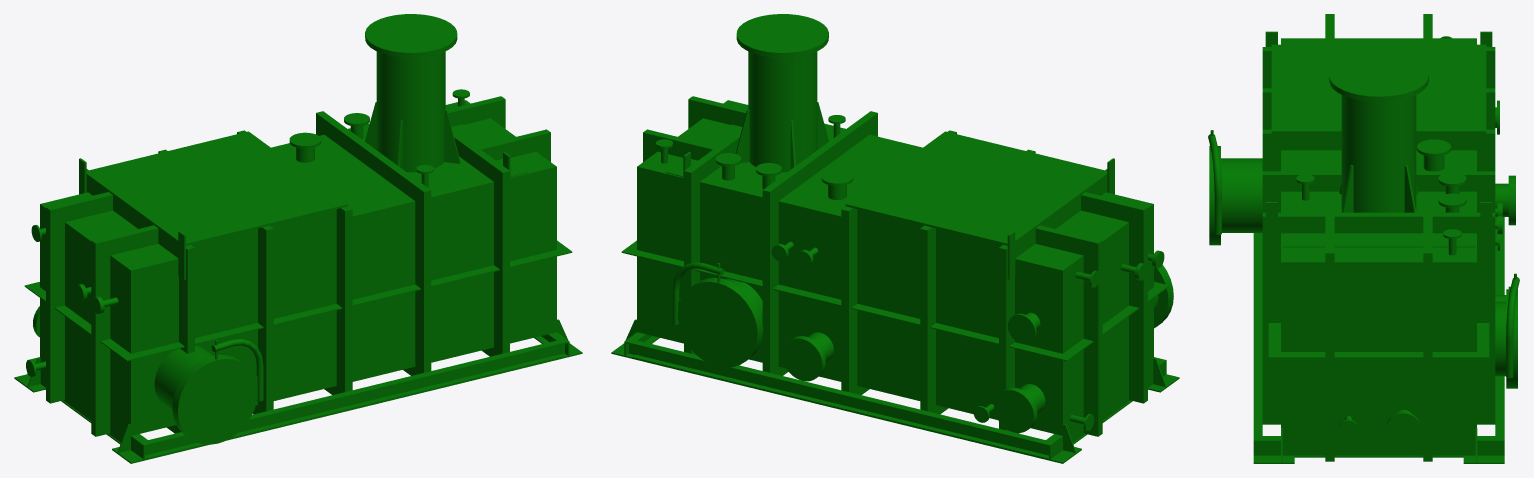
Rendered from Image-1710907700756-2280694947152_56-TB50.fbx.
3 renders of one model, left to right at view 1: azimuth 30°, elevation 25°; view 2: azimuth 150°, elevation 25°; view 3: azimuth 270°, elevation 25°, orthographic. The views are drawn at different scales.
Parts seen in each view (by area): view 1: BOX 1 of SUBEQUIPMENT /56-TB50/PRIM, BOX 6 of SUBEQUIPMENT /56-TB50/PRIM, /56-TB50/N7, CYLINDER 2 of SUBEQUIPMENT /56-TB50/PRIM, BOX 4 of SUBEQUIPMENT /56-TB50/STIFF, BOX 11 of SUBEQUIPMENT /56-TB50/STIFF, BOX 8 of SUBEQUIPMENT /56-TB50/STIFF, BOX 3 of SUBEQUIPMENT /56-TB50/STIFF, BOX 11 of SUBEQUIPMENT /56-TB50/SUPP, BOX 1 of SUBEQUIPMENT /56-TB50/STIFF, BOX 5 of SUBEQUIPMENT /56-TB50/STIFF, BOX 6 of SUBEQUIPMENT /56-TB50/STIFF (+9 smaller); view 2: BOX 1 of SUBEQUIPMENT /56-TB50/PRIM, BOX 6 of SUBEQUIPMENT /56-TB50/PRIM, /56-TB50/N7, CYLINDER 1 of SUBEQUIPMENT /56-TB50/PRIM, BOX 4 of SUBEQUIPMENT /56-TB50/STIFF, BOX 11 of SUBEQUIPMENT /56-TB50/STIFF, BOX 8 of SUBEQUIPMENT /56-TB50/STIFF, BOX 12 of SUBEQUIPMENT /56-TB50/SUPP, BOX 1 of SUBEQUIPMENT /56-TB50/STIFF, BOX 5 of SUBEQUIPMENT /56-TB50/STIFF, BOX 7 of SUBEQUIPMENT /56-TB50/STIFF, BOX 6 of SUBEQUIPMENT /56-TB50/STIFF (+13 smaller); view 3: BOX 1 of SUBEQUIPMENT /56-TB50/PRIM, BOX 6 of SUBEQUIPMENT /56-TB50/PRIM, /56-TB50/N7, BOX 3 of SUBEQUIPMENT /56-TB50/STIFF, BOX 6 of SUBEQUIPMENT /56-TB50/SUPP, BOX 5 of SUBEQUIPMENT /56-TB50/STIFF, BOX 4 of SUBEQUIPMENT /56-TB50/STIFF, /56-TB50/M1, BOX 2 of SUBEQUIPMENT /56-TB50/STIFF, BOX 9 of SUBEQUIPMENT /56-TB50/STIFF, BOX 10 of SUBEQUIPMENT /56-TB50/STIFF, BOX 1 of SUBEQUIPMENT /56-TB50/STIFF (+23 smaller).
Part boxes in pixels (<box>): BOX 1 of SUBEQUIPMENT /56-TB50/PRIM: <box>40,100,556,435</box>; BOX 6 of SUBEQUIPMENT /56-TB50/PRIM: <box>86,131,348,245</box>; /56-TB50/N7: <box>365,14,457,172</box>; CYLINDER 2 of SUBEQUIPMENT /56-TB50/PRIM: <box>175,357,257,444</box>; BOX 4 of SUBEQUIPMENT /56-TB50/STIFF: <box>316,111,431,375</box>; BOX 11 of SUBEQUIPMENT /56-TB50/STIFF: <box>46,192,112,403</box>; BOX 8 of SUBEQUIPMENT /56-TB50/STIFF: <box>91,225,158,436</box>; BOX 3 of SUBEQUIPMENT /56-TB50/STIFF: <box>452,129,509,356</box>; BOX 11 of SUBEQUIPMENT /56-TB50/SUPP: <box>141,339,564,455</box>; BOX 1 of SUBEQUIPMENT /56-TB50/STIFF: <box>24,240,572,361</box>; BOX 5 of SUBEQUIPMENT /56-TB50/STIFF: <box>237,130,352,394</box>; BOX 6 of SUBEQUIPMENT /56-TB50/STIFF: <box>158,149,273,414</box>; BOX 1 of SUBEQUIPMENT /56-TB50/PRIM: <box>637,100,1153,435</box>; BOX 6 of SUBEQUIPMENT /56-TB50/PRIM: <box>845,131,1107,245</box>; /56-TB50/N7: <box>736,14,828,172</box>; CYLINDER 1 of SUBEQUIPMENT /56-TB50/PRIM: <box>677,280,760,367</box>; BOX 4 of SUBEQUIPMENT /56-TB50/STIFF: <box>762,111,877,375</box>; BOX 11 of SUBEQUIPMENT /56-TB50/STIFF: <box>1035,225,1102,436</box>; BOX 8 of SUBEQUIPMENT /56-TB50/STIFF: <box>1081,192,1147,403</box>; BOX 12 of SUBEQUIPMENT /56-TB50/SUPP: <box>629,339,1054,456</box>; BOX 1 of SUBEQUIPMENT /56-TB50/STIFF: <box>621,240,1169,361</box>; BOX 5 of SUBEQUIPMENT /56-TB50/STIFF: <box>841,130,956,394</box>; BOX 7 of SUBEQUIPMENT /56-TB50/STIFF: <box>999,169,1107,433</box>; BOX 6 of SUBEQUIPMENT /56-TB50/STIFF: <box>920,149,1035,414</box>; BOX 1 of SUBEQUIPMENT /56-TB50/PRIM: <box>1281,38,1476,440</box>; BOX 6 of SUBEQUIPMENT /56-TB50/PRIM: <box>1271,44,1486,133</box>; /56-TB50/N7: <box>1329,54,1428,212</box>; BOX 3 of SUBEQUIPMENT /56-TB50/STIFF: <box>1262,212,1495,424</box>; BOX 6 of SUBEQUIPMENT /56-TB50/SUPP: <box>1253,440,1504,455</box>; BOX 5 of SUBEQUIPMENT /56-TB50/STIFF: <box>1262,129,1495,171</box>; BOX 4 of SUBEQUIPMENT /56-TB50/STIFF: <box>1262,171,1495,212</box>; /56-TB50/M1: <box>1215,146,1262,245</box>; BOX 2 of SUBEQUIPMENT /56-TB50/STIFF: <box>1282,233,1475,247</box>; BOX 9 of SUBEQUIPMENT /56-TB50/STIFF: <box>1325,216,1334,461</box>; BOX 10 of SUBEQUIPMENT /56-TB50/STIFF: <box>1423,216,1432,461</box>; BOX 1 of SUBEQUIPMENT /56-TB50/STIFF: <box>1268,323,1489,358</box>.
Size of the model in its own units: 4.72 by 2.55 by 2.96.
